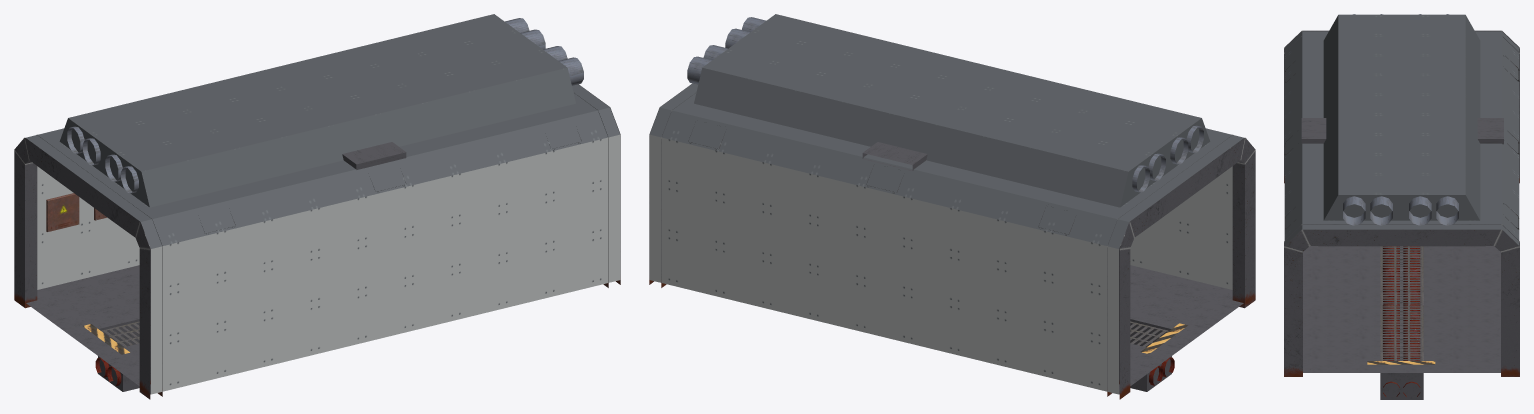
The model's file is starship_section.FBX.
3 views of the same model, side by side, from view 1: azimuth 30°, elevation 25°; view 2: azimuth 150°, elevation 25°; view 3: azimuth 270°, elevation 25° (orthographic). The views are drawn at different scales.
Parts seen in each view (by area): view 1: Tonnel; view 2: Tonnel; view 3: Tonnel.
Part boxes in pixels (left/top/right/bottom): Tonnel: left=14, top=14, right=620, bottom=399; Tonnel: left=649, top=14, right=1255, bottom=399; Tonnel: left=1284, top=14, right=1519, bottom=399.
Bounding box in the file's own units: 4.88 × 2.37 × 2.45.
